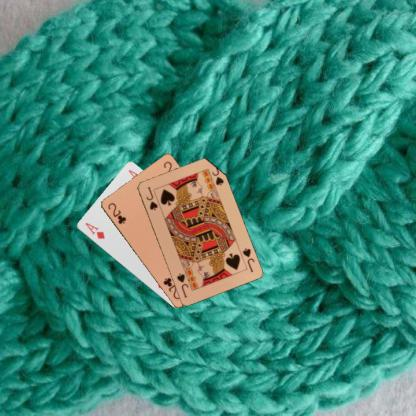2c: (105, 200, 127, 225)
Ad: (82, 220, 106, 240)
Js: (143, 184, 159, 211), (240, 246, 255, 273)
